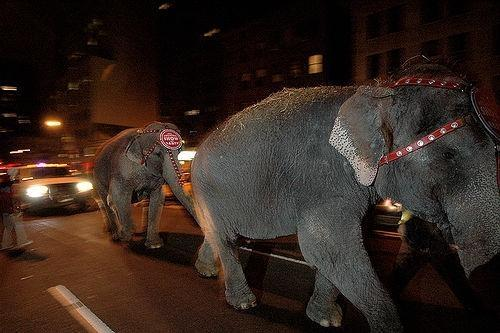car: (19, 164, 94, 212), (164, 169, 196, 203)
